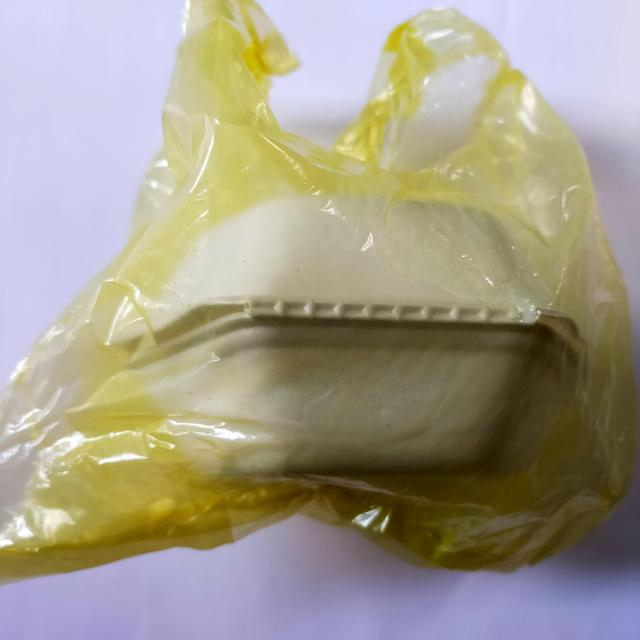styrofoam: (1, 1, 636, 586)
